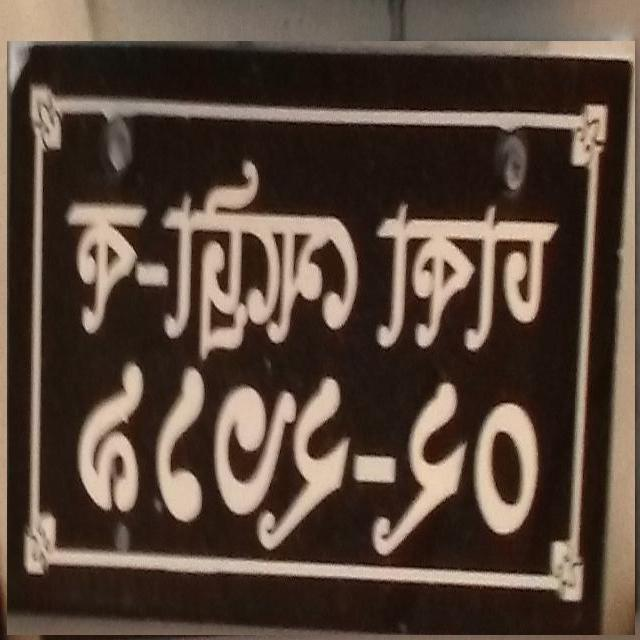numberplate: (7, 41, 635, 635)
